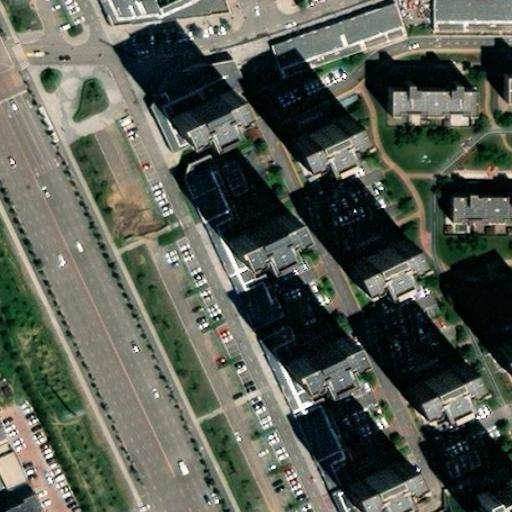building: (152, 77, 385, 512), (293, 135, 364, 193), (233, 234, 306, 289), (181, 112, 252, 167), (352, 261, 421, 316), (294, 360, 363, 413), (409, 386, 478, 437), (395, 97, 481, 126), (456, 202, 512, 231), (100, 0, 146, 29), (375, 490, 423, 512), (1, 490, 43, 512), (498, 69, 512, 104), (498, 366, 512, 394)
